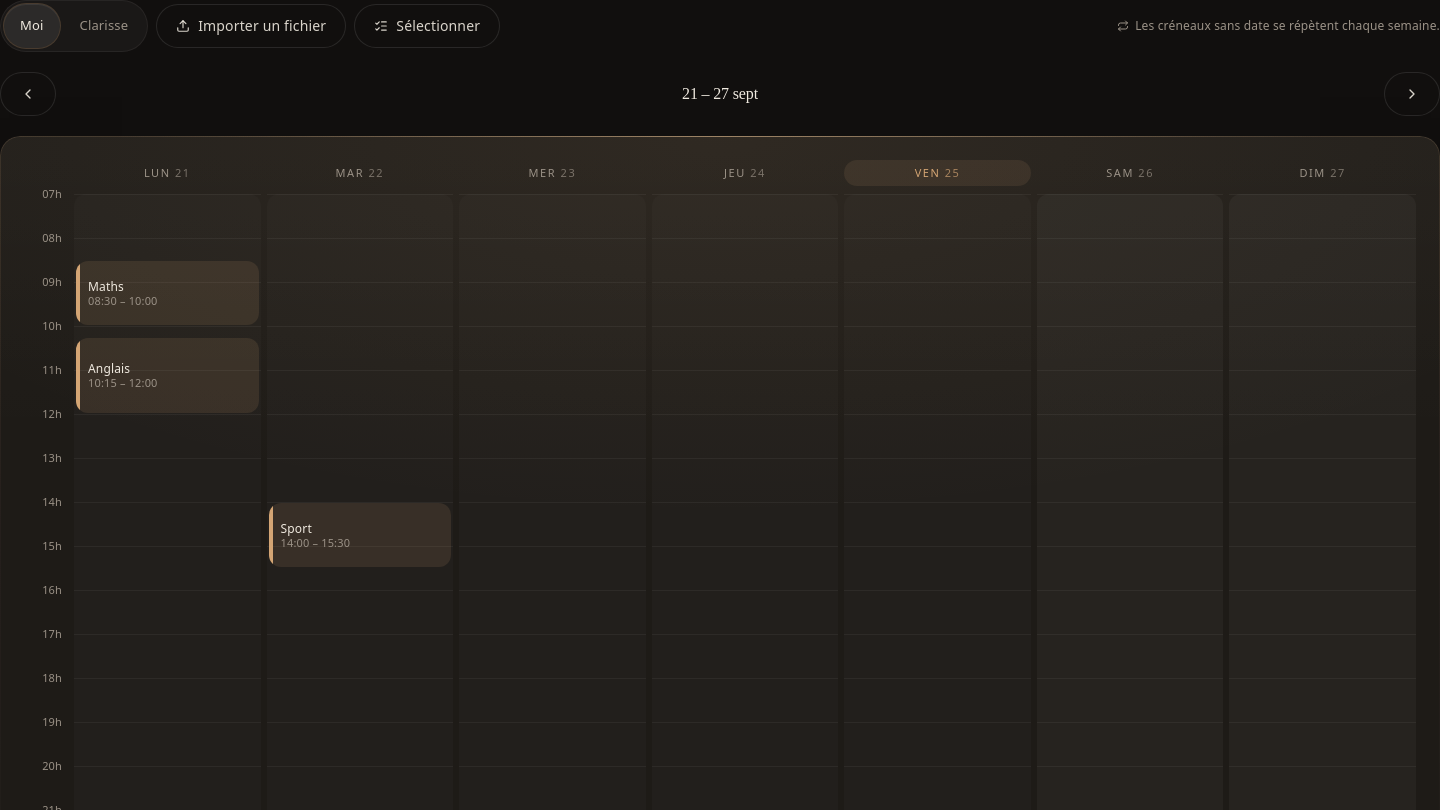
Scenario: Emploi du temps — mode sélection et suppression multiple › ne supprime rien tant que la confirmation n’a pas été donnée
Click the button "Sélectionner" at (427, 26), box [354,4,500,48]
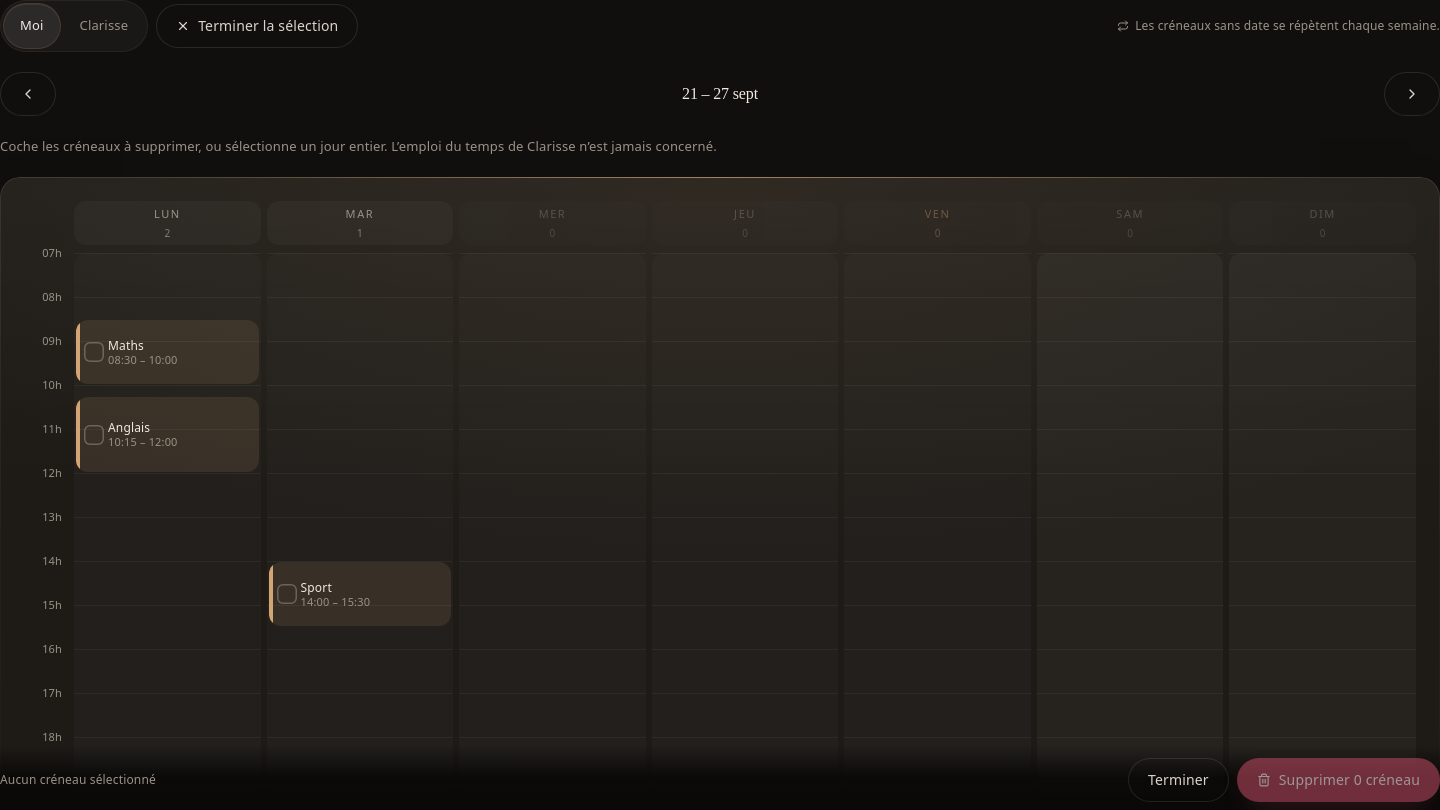
Click the checkbox named "Sélectionner Maths" at (167, 352), box [76,320,259,384]
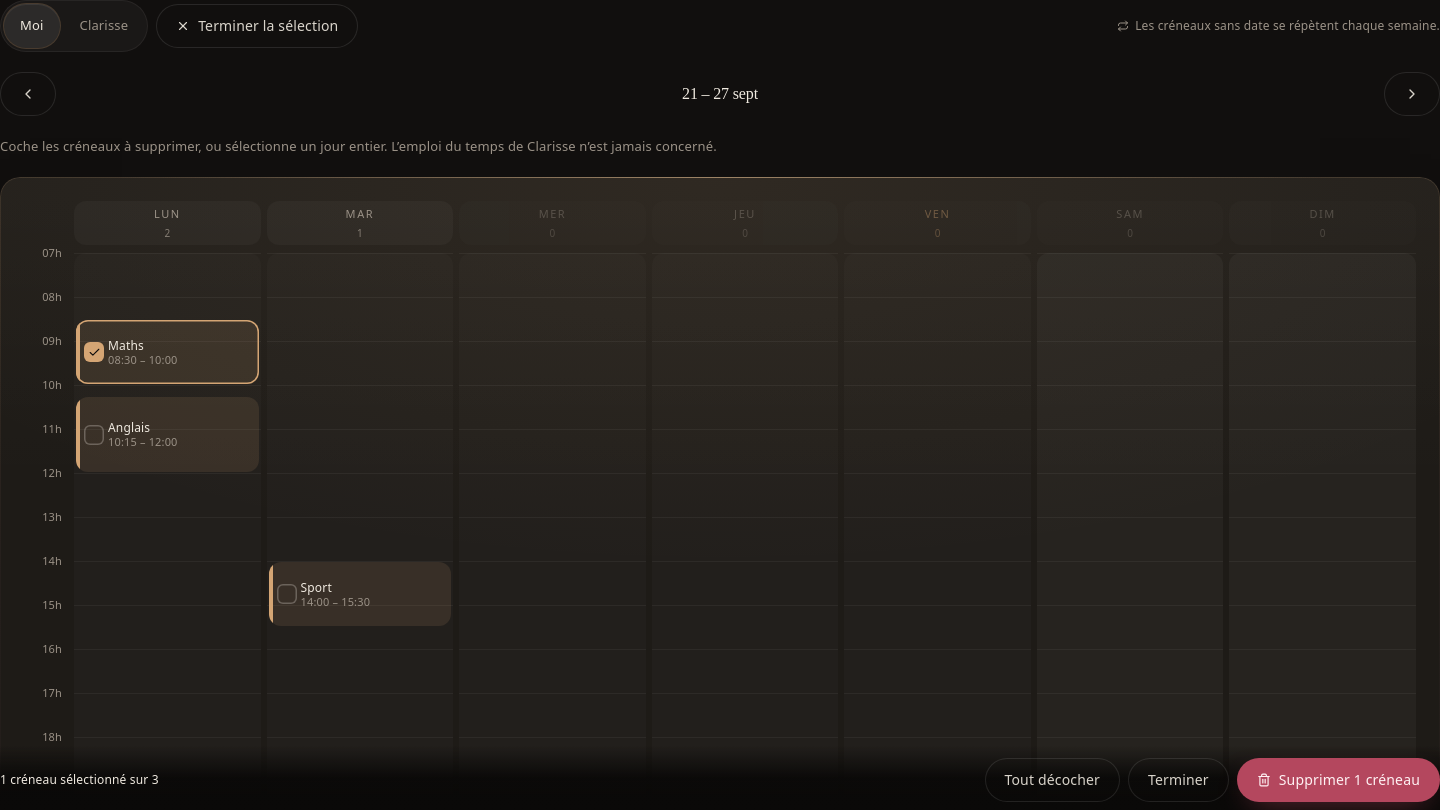
Click the button "Supprimer 1 créneau" at (1338, 780), box [1237,758,1439,802]
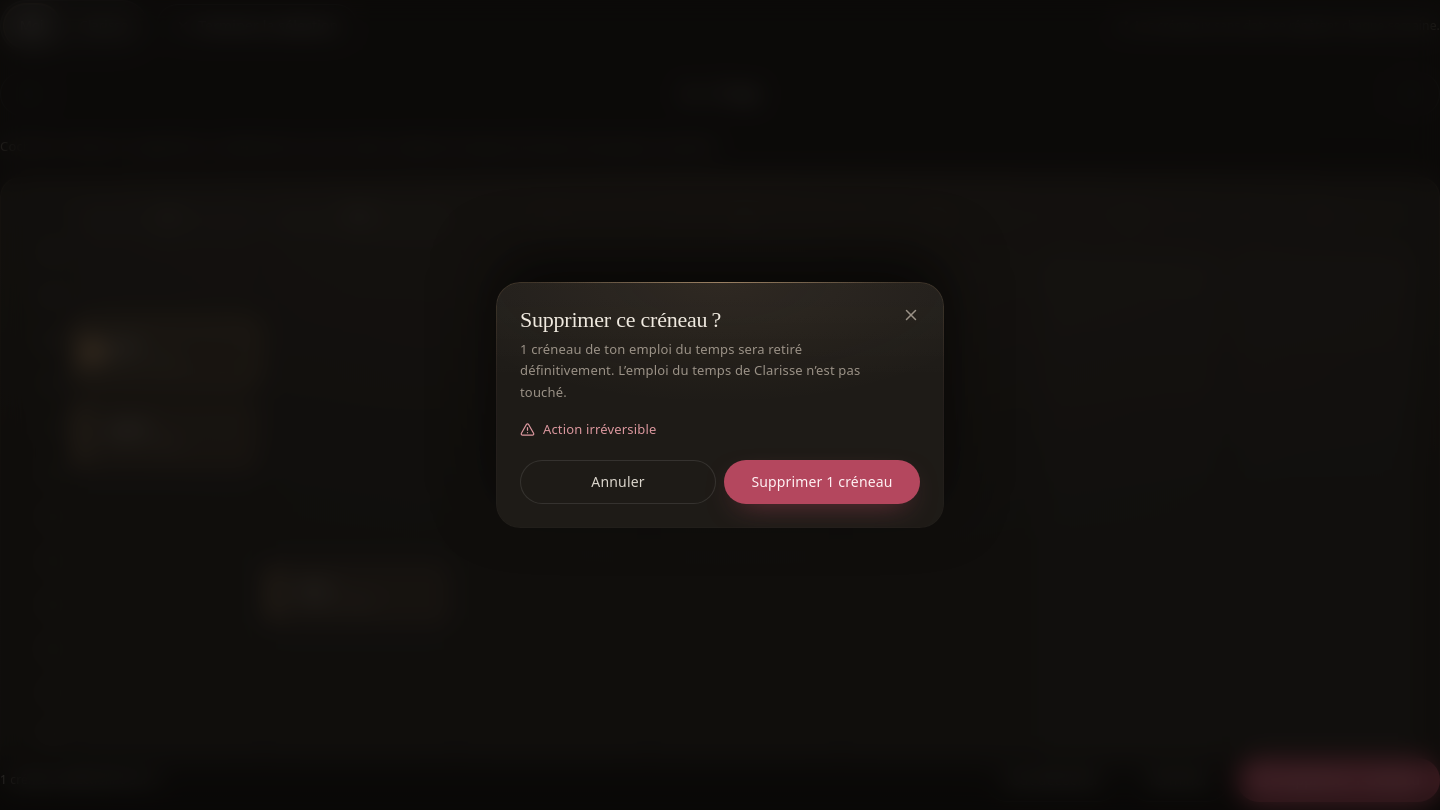
Result: the heading "Supprimer ce créneau ?" is shown at [520,307,721,332]
Result: the text "1 créneau de ton emploi du temps sera retiré définitivement" is shown at [520,340,860,401]
Result: the text "Action irréversible" is shown at [520,420,656,438]
Click the button "Annuler" at (618, 482), box [520,460,716,504]
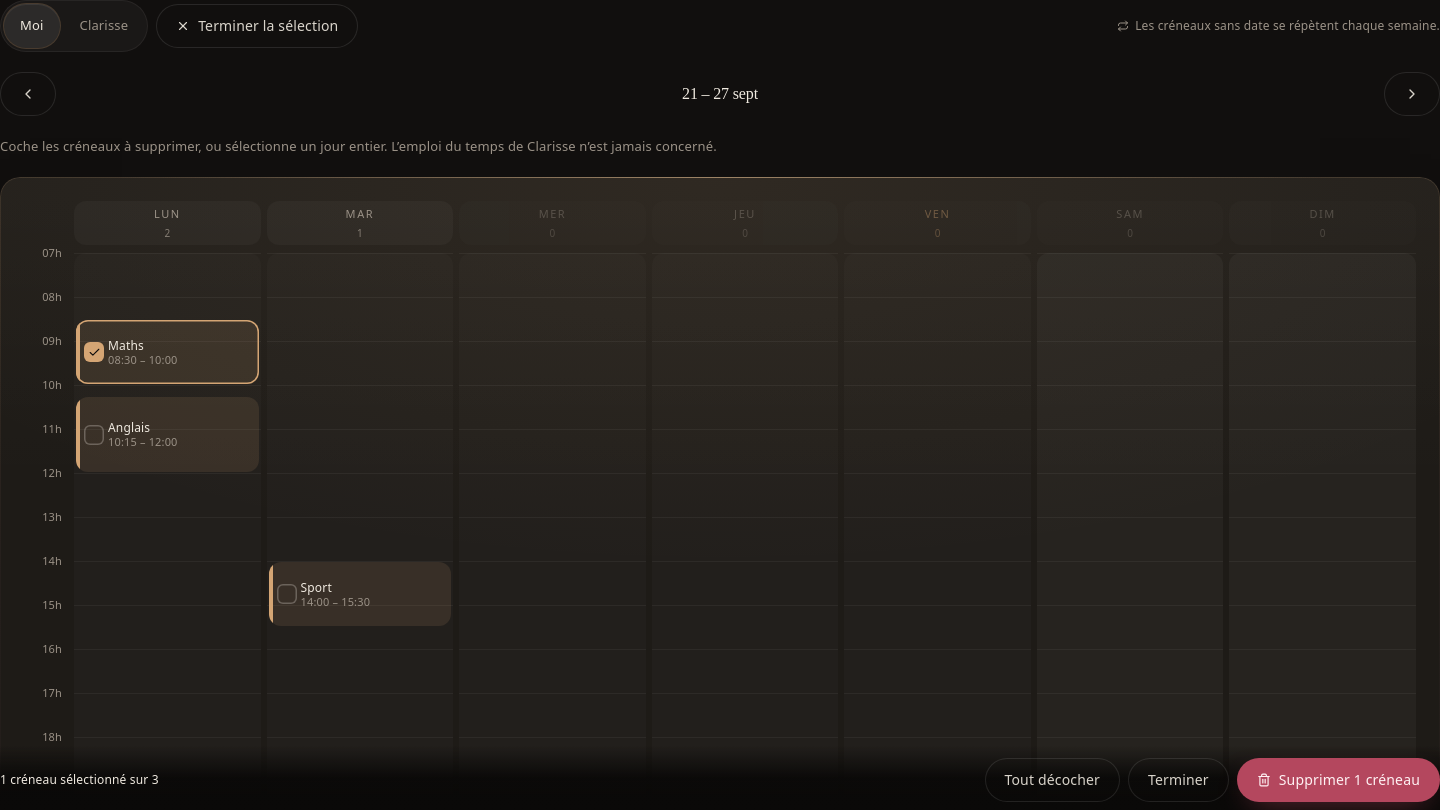
Result: the dialog is gone
